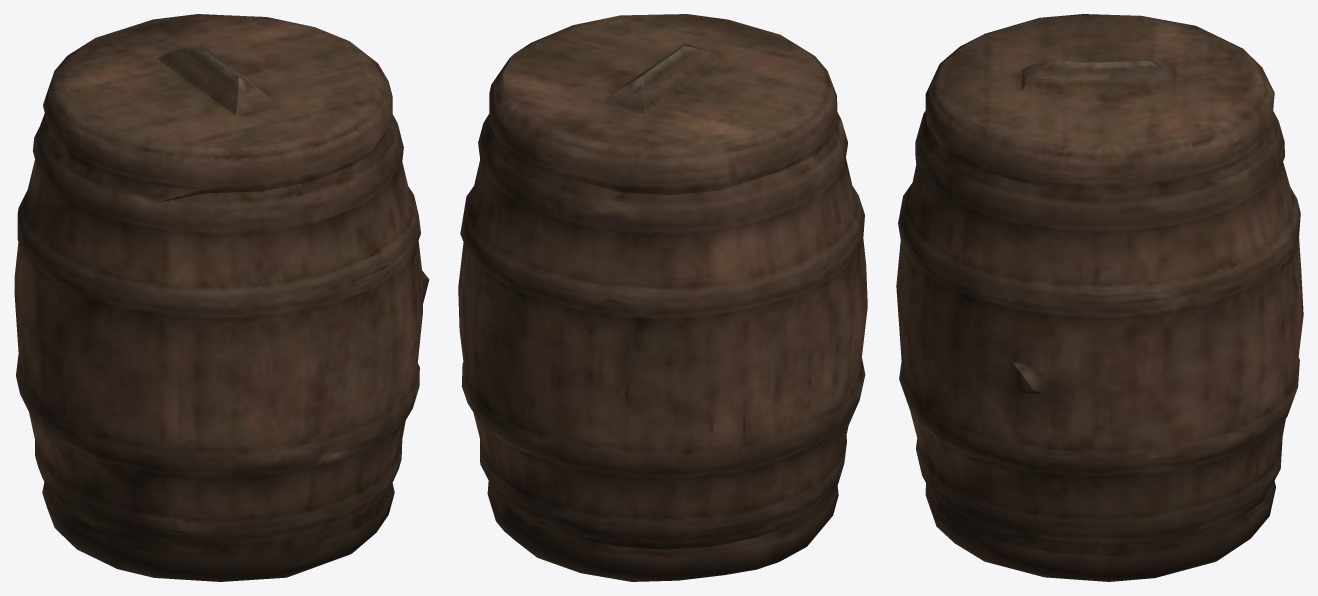
Rendered from ph_barrel.glb.
The picture shows the model from 3 angles, left to right: view 1: azimuth 30°, elevation 25°; view 2: azimuth 150°, elevation 25°; view 3: azimuth 270°, elevation 25°; orthographic projection.
Parts seen in each view (by area): view 1: barrel; view 2: barrel; view 3: barrel.
Boxes of the visible parts, left/top/right/bottom form: barrel: left=14, top=14, right=429, bottom=581; barrel: left=458, top=14, right=867, bottom=581; barrel: left=896, top=14, right=1303, bottom=581.
Size of the model in its own units: 0.7436 by 0.9128 by 0.7425.
1 material, 1 textured.
